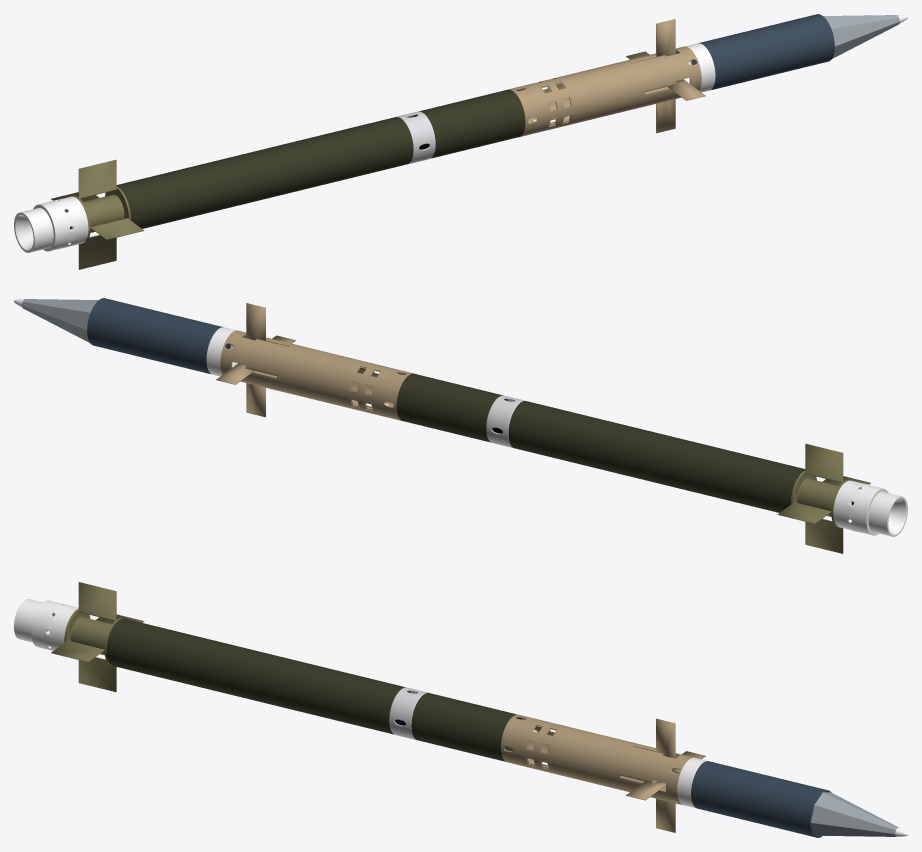
Rendered from mistral_rocket.glb.
3 renders of one model, top to bottom at view 1: azimuth 30°, elevation 25°; view 2: azimuth 150°, elevation 25°; view 3: azimuth 330°, elevation 25°, orthographic.
Visible parts, largest first — view 1: roket_body_back, servomotor, roket_body_front, launch_motor, irdome, stabilisators_back_base, stabilisator_back_1, cor_motor, stabilisator_back_3, stabilisator_front_1, stabilisator_back_4, stabilisator_front_3; view 2: roket_body_back, servomotor, roket_body_front, launch_motor, irdome, stabilisators_back_base, stabilisator_back_1, cor_motor, stabilisator_back_3, stabilisator_front_1, stabilisator_back_2, stabilisator_front_3; view 3: roket_body_back, servomotor, roket_body_front, irdome, launch_motor, stabilisators_back_base, stabilisator_back_1, cor_motor, stabilisator_back_3, stabilisator_front_1, stabilisator_back_4, stabilisator_front_3.
Part boxes in pixels (box(x1,y1,x2,y2)): roket_body_back: box(116, 89, 525, 228); servomotor: box(508, 46, 701, 137); roket_body_front: box(684, 14, 834, 92); launch_motor: box(14, 196, 88, 252); irdome: box(823, 15, 907, 58); stabilisators_back_base: box(65, 186, 130, 243); stabilisator_back_1: box(78, 160, 116, 198); cor_motor: box(396, 111, 435, 164); stabilisator_back_3: box(78, 234, 116, 269); stabilisator_front_1: box(656, 19, 675, 56); stabilisator_back_4: box(90, 218, 144, 239); stabilisator_front_3: box(656, 99, 675, 133); roket_body_back: box(396, 373, 805, 512); servomotor: box(220, 330, 413, 421); roket_body_front: box(87, 298, 237, 376); launch_motor: box(833, 480, 907, 536); irdome: box(14, 299, 98, 342); stabilisators_back_base: box(791, 470, 852, 527); stabilisator_back_1: box(805, 444, 843, 482); cor_motor: box(486, 395, 525, 448); stabilisator_back_3: box(805, 518, 843, 553); stabilisator_front_1: box(246, 303, 265, 340); stabilisator_back_2: box(777, 502, 831, 523); stabilisator_front_3: box(246, 383, 265, 417); roket_body_back: box(106, 618, 522, 761); servomotor: box(501, 714, 695, 804); roket_body_front: box(677, 757, 831, 837); irdome: box(811, 792, 907, 836); launch_motor: box(14, 599, 78, 650); stabilisators_back_base: box(64, 609, 122, 665); stabilisator_back_1: box(78, 582, 116, 620); cor_motor: box(389, 687, 427, 740); stabilisator_back_3: box(78, 657, 116, 691); stabilisator_front_1: box(656, 718, 675, 758); stabilisator_back_4: box(51, 640, 104, 662); stabilisator_front_3: box(656, 789, 675, 832).
Size of the model in its own units: 1.86 by 0.2201 by 0.2201.
